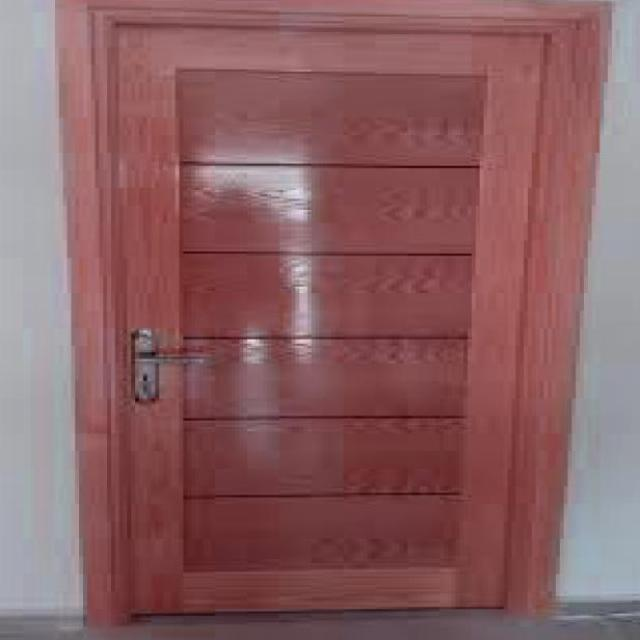door: (59, 2, 606, 627)
